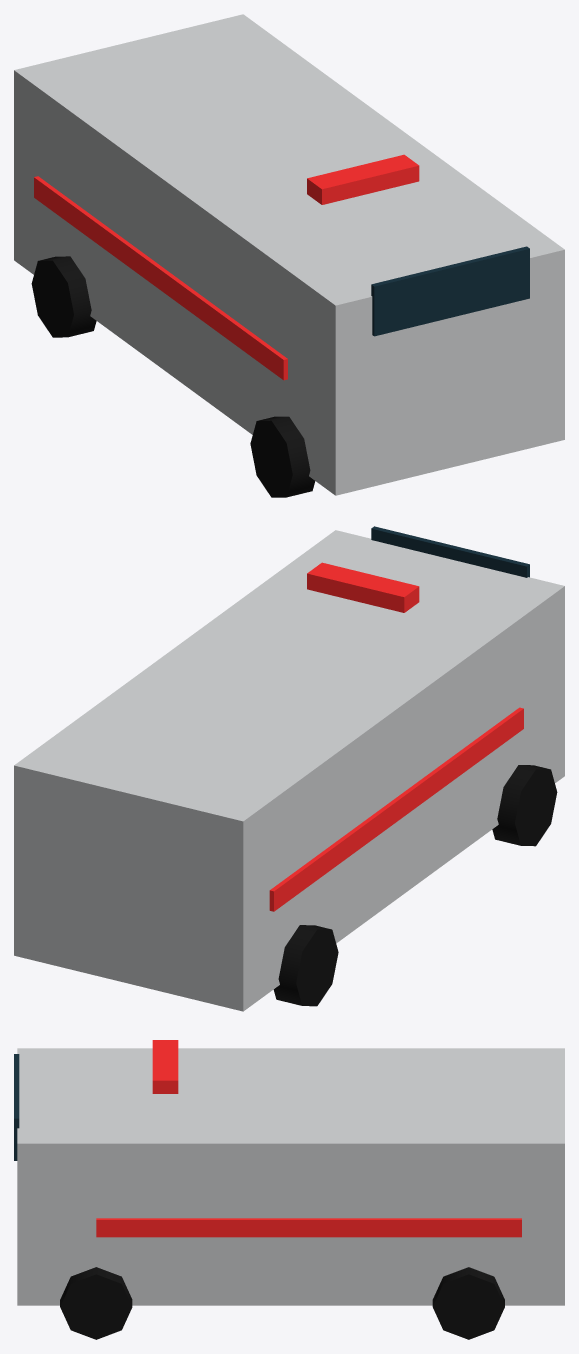
The model's file is emergency_ambulance_medium.glb.
3 views of the same model, one above another, from view 1: azimuth 30°, elevation 25°; view 2: azimuth 150°, elevation 25°; view 3: azimuth 270°, elevation 25° (orthographic). The views are drawn at different scales.
Parts seen in each view (by area): view 1: emergency_ambulance_medium_body, emergency_ambulance_medium_front_glass_band, emergency_ambulance_medium_left_red_stripe, emergency_ambulance_medium_left_rear_wheel, emergency_ambulance_medium_left_front_wheel, emergency_ambulance_medium_roof_lightbar; view 2: emergency_ambulance_medium_body, emergency_ambulance_medium_left_red_stripe, emergency_ambulance_medium_left_rear_wheel, emergency_ambulance_medium_left_front_wheel, emergency_ambulance_medium_roof_lightbar, emergency_ambulance_medium_front_glass_band; view 3: emergency_ambulance_medium_body, emergency_ambulance_medium_right_red_stripe, emergency_ambulance_medium_right_front_wheel, emergency_ambulance_medium_right_rear_wheel, emergency_ambulance_medium_roof_lightbar, emergency_ambulance_medium_front_glass_band.
Part boxes in pixels (box(x1,y1,x2,y2)): emergency_ambulance_medium_body: box(14, 14, 564, 495); emergency_ambulance_medium_front_glass_band: box(371, 246, 529, 336); emergency_ambulance_medium_left_red_stripe: box(34, 176, 287, 380); emergency_ambulance_medium_left_rear_wheel: box(31, 256, 96, 337); emergency_ambulance_medium_left_front_wheel: box(250, 416, 315, 497); emergency_ambulance_medium_roof_lightbar: box(307, 154, 419, 204); emergency_ambulance_medium_body: box(14, 530, 564, 1011); emergency_ambulance_medium_left_red_stripe: box(269, 707, 523, 911); emergency_ambulance_medium_left_rear_wheel: box(273, 925, 338, 1006); emergency_ambulance_medium_left_front_wheel: box(492, 765, 557, 846); emergency_ambulance_medium_roof_lightbar: box(307, 562, 419, 612); emergency_ambulance_medium_front_glass_band: box(371, 526, 529, 577); emergency_ambulance_medium_body: box(17, 1048, 564, 1305); emergency_ambulance_medium_right_red_stripe: box(96, 1218, 521, 1237); emergency_ambulance_medium_right_front_wheel: box(60, 1267, 132, 1339); emergency_ambulance_medium_right_rear_wheel: box(432, 1267, 504, 1339); emergency_ambulance_medium_roof_lightbar: box(152, 1040, 178, 1093); emergency_ambulance_medium_front_glass_band: box(14, 1054, 19, 1160).
Bounding box in the file's own units: 2.44 × 2.33 × 5.18.
